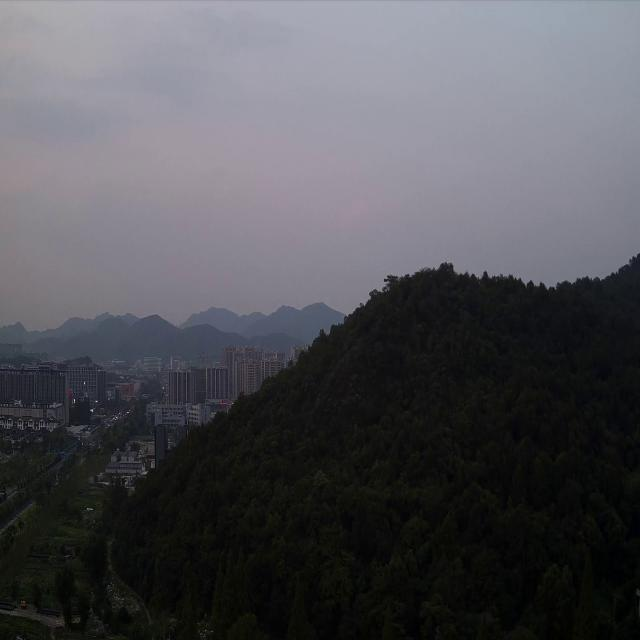UAV: (356, 393, 362, 399)
